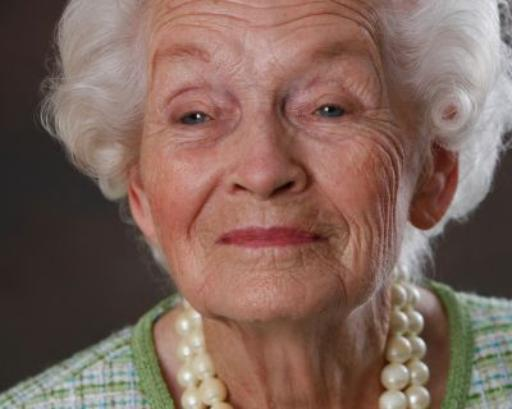left_eye: (297, 102, 353, 125)
left_lip_corner: (312, 230, 340, 249)
right_eye: (172, 109, 224, 130)
right_lip_corner: (209, 233, 232, 253)
